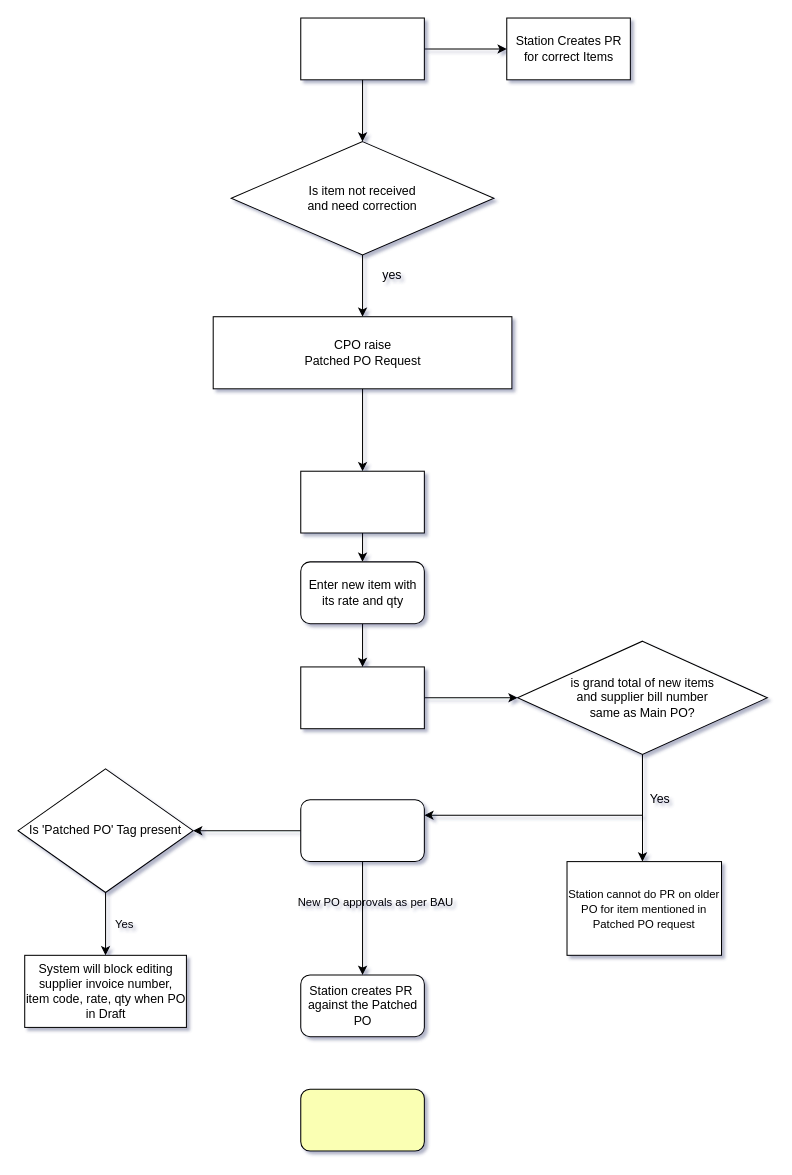
Some shapes in this 792 by 1175 pixel diagram are drawn without their labels. The centre of each missing label's shape, as x and y in pixels:
Created PINV inclunding original short PR and Patched PO's PR: the point at 362,1119
Creates Patched PO (Draft): the point at 362,830
Get Items (received_qty=0): the point at 362,501
Main PO: the point at 362,48
Submit Patched PO: the point at 362,697
